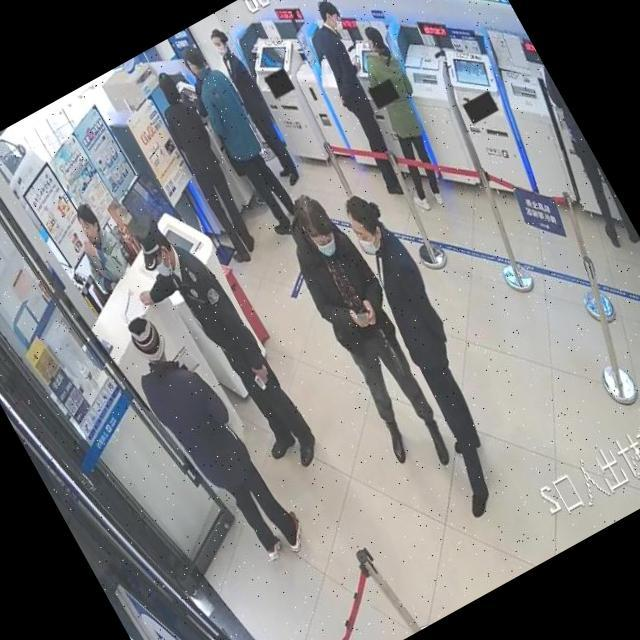person: (308, 177, 542, 518), (313, 180, 542, 518), (108, 200, 324, 497), (264, 185, 471, 482), (109, 294, 313, 582), (290, 0, 432, 201), (328, 18, 472, 216), (172, 38, 310, 243), (330, 18, 472, 214), (509, 46, 640, 253), (142, 70, 273, 266), (204, 23, 308, 188), (61, 197, 140, 296)
